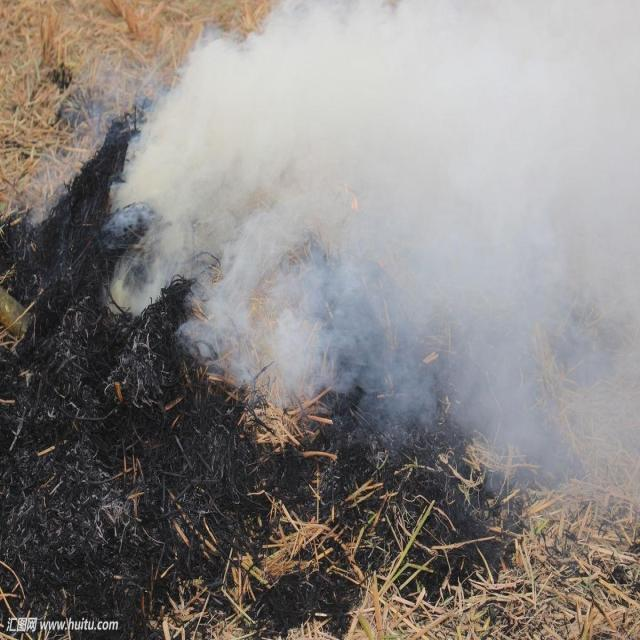Smoke: (27, 0, 640, 498)
